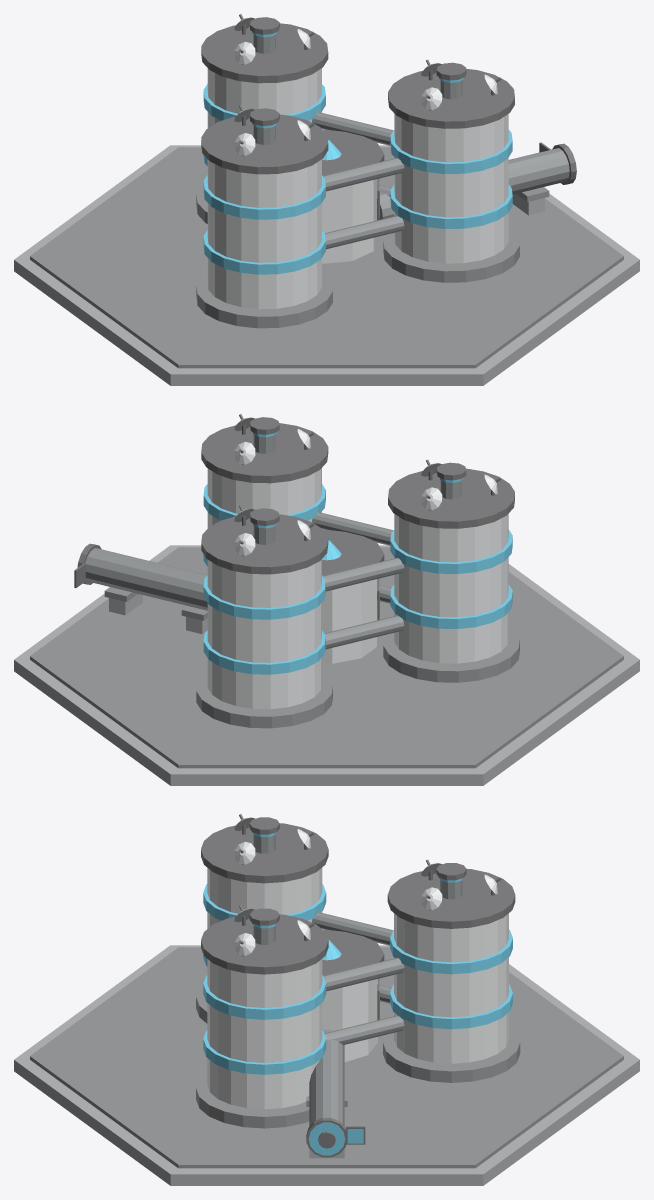
File: cleaner_s1_100.glb
3 renders of one model, top to bottom at view 1: azimuth 30°, elevation 25°; view 2: azimuth 150°, elevation 25°; view 3: azimuth 270°, elevation 25°, orthographic.
Visible parts, largest first — view 1: C_FoundRim, C_Foundation, C_T2_Tank, C_T3_Tank, C_T2_Cap, C_T1_Cap, C_T3_Cap, C_T1_Tank, C_T2_Pedestal, C_T3_Pedestal, C_ControlHouse, C_PipeStubE (+9 smaller); view 2: C_FoundRim, C_Foundation, C_T1_Tank, C_T2_Tank, C_T1_Cap, C_T3_Cap, C_T2_Cap, C_PipeStubE, C_T3_Tank, C_T1_Pedestal, C_T2_Pedestal, C_ControlHouse (+9 smaller); view 3: C_FoundRim, C_Foundation, C_T1_Tank, C_T3_Tank, C_T1_Cap, C_T2_Cap, C_T3_Cap, C_T2_Tank, C_T1_Pedestal, C_ControlHouse, C_PipeStubE, C_T3_Pedestal (+10 smaller).
Boxes of the visible parts, x1=… form: C_FoundRim: x1=30, y1=147, x2=623, y2=368; C_Foundation: x1=14, y1=145, x2=639, y2=385; C_T2_Tank: x1=207, y1=159, x2=321, y2=309; C_T3_Tank: x1=394, y1=114, x2=508, y2=263; C_T2_Cap: x1=201, y1=114, x2=328, y2=174; C_T1_Cap: x1=201, y1=23, x2=328, y2=83; C_T3_Cap: x1=388, y1=69, x2=514, y2=128; C_T1_Tank: x1=207, y1=68, x2=321, y2=127; C_T2_Pedestal: x1=196, y1=272, x2=332, y2=328; C_T3_Pedestal: x1=383, y1=227, x2=519, y2=282; C_ControlHouse: x1=322, y1=179, x2=376, y2=263; C_PipeStubE: x1=377, y1=148, x2=569, y2=219; C_FoundRim: x1=30, y1=547, x2=623, y2=768; C_Foundation: x1=14, y1=545, x2=639, y2=785; C_T1_Tank: x1=207, y1=559, x2=321, y2=709; C_T2_Tank: x1=394, y1=514, x2=508, y2=663; C_T1_Cap: x1=201, y1=514, x2=328, y2=574; C_T3_Cap: x1=201, y1=423, x2=328, y2=483; C_T2_Cap: x1=388, y1=468, x2=514, y2=528; C_PipeStubE: x1=85, y1=548, x2=207, y2=610; C_T3_Tank: x1=207, y1=468, x2=321, y2=528; C_T1_Pedestal: x1=196, y1=672, x2=332, y2=728; C_T2_Pedestal: x1=383, y1=627, x2=519, y2=682; C_ControlHouse: x1=322, y1=579, x2=376, y2=663; C_FoundRim: x1=30, y1=947, x2=623, y2=1168; C_Foundation: x1=14, y1=945, x2=639, y2=1185; C_T1_Tank: x1=394, y1=913, x2=508, y2=1063; C_T3_Tank: x1=207, y1=959, x2=322, y2=1109; C_T1_Cap: x1=387, y1=869, x2=515, y2=928; C_T2_Cap: x1=201, y1=823, x2=328, y2=883; C_T3_Cap: x1=201, y1=914, x2=328, y2=974; C_T2_Tank: x1=207, y1=867, x2=322, y2=928; C_T1_Pedestal: x1=383, y1=1027, x2=520, y2=1082; C_ControlHouse: x1=322, y1=979, x2=377, y2=1061; C_PipeStubE: x1=309, y1=1029, x2=344, y2=1126; C_T3_Pedestal: x1=196, y1=1073, x2=309, y2=1128.
Bounding box in the file's own units: 3.45 × 1.4 × 3.92.
